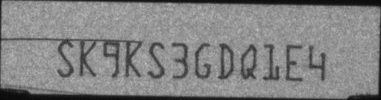1: (263, 42, 281, 81)
3: (171, 39, 189, 80)
4: (307, 43, 326, 80)
9: (102, 40, 120, 79)
D: (216, 41, 236, 80)
E: (285, 43, 304, 82)
G: (193, 42, 212, 79)
K: (124, 39, 142, 78), (79, 38, 97, 76)
Q: (240, 42, 259, 79)
S: (147, 40, 166, 80), (56, 39, 75, 78)
